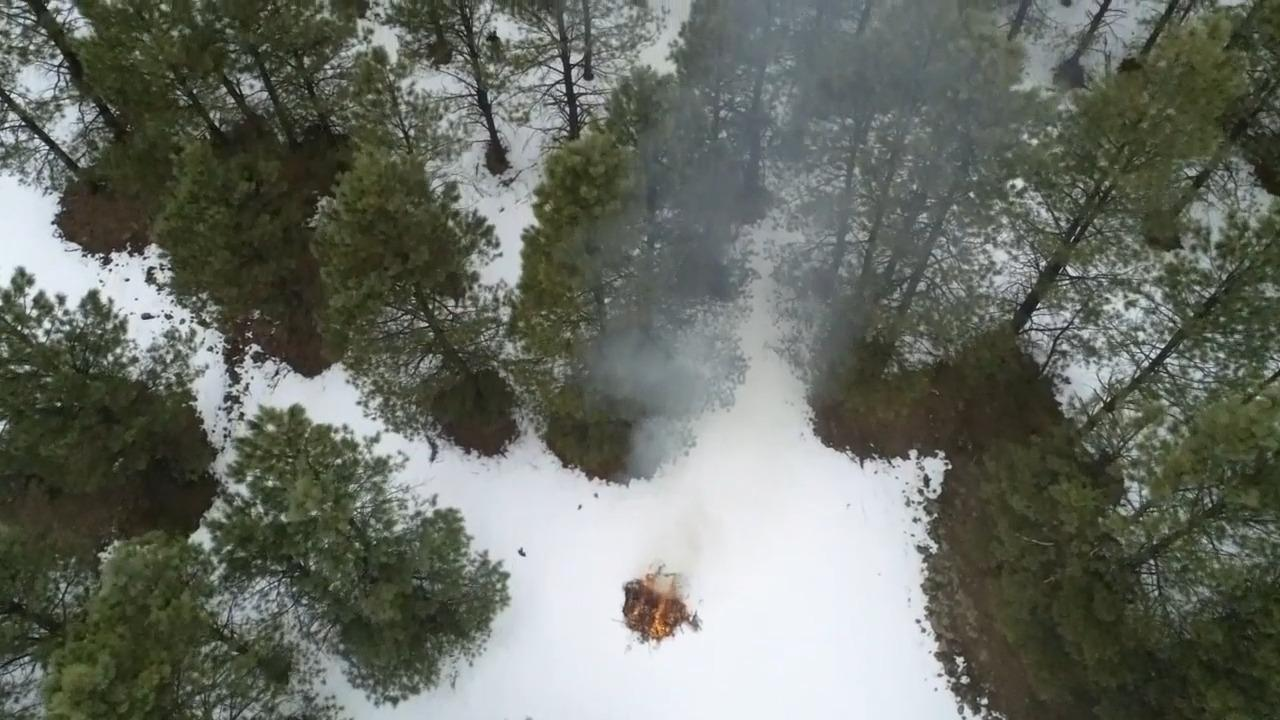fire: (621, 556, 686, 636)
smoke: (596, 270, 710, 423)
